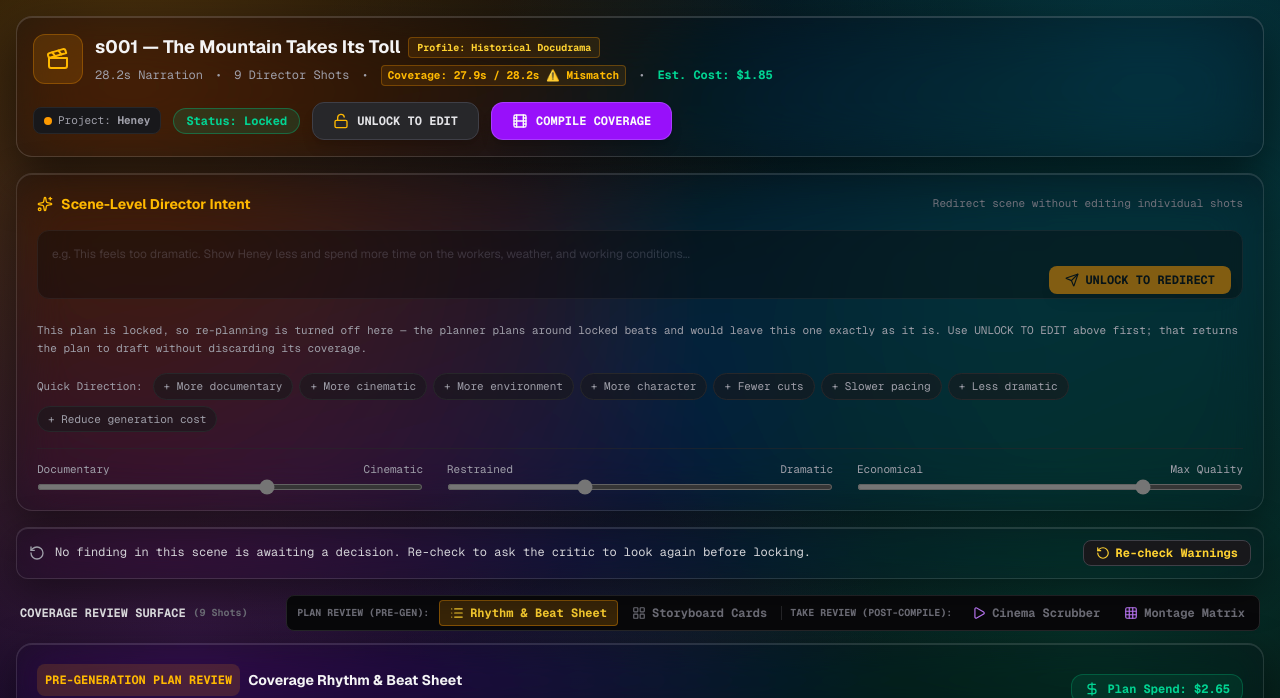
Scenario: the control the studio did not have › cancelling closes the gate without issuing anything
The image size is (1280, 698).
Click the button with test id "compile-open-gate". click: x=582, y=121
box: [491,102,672,140]
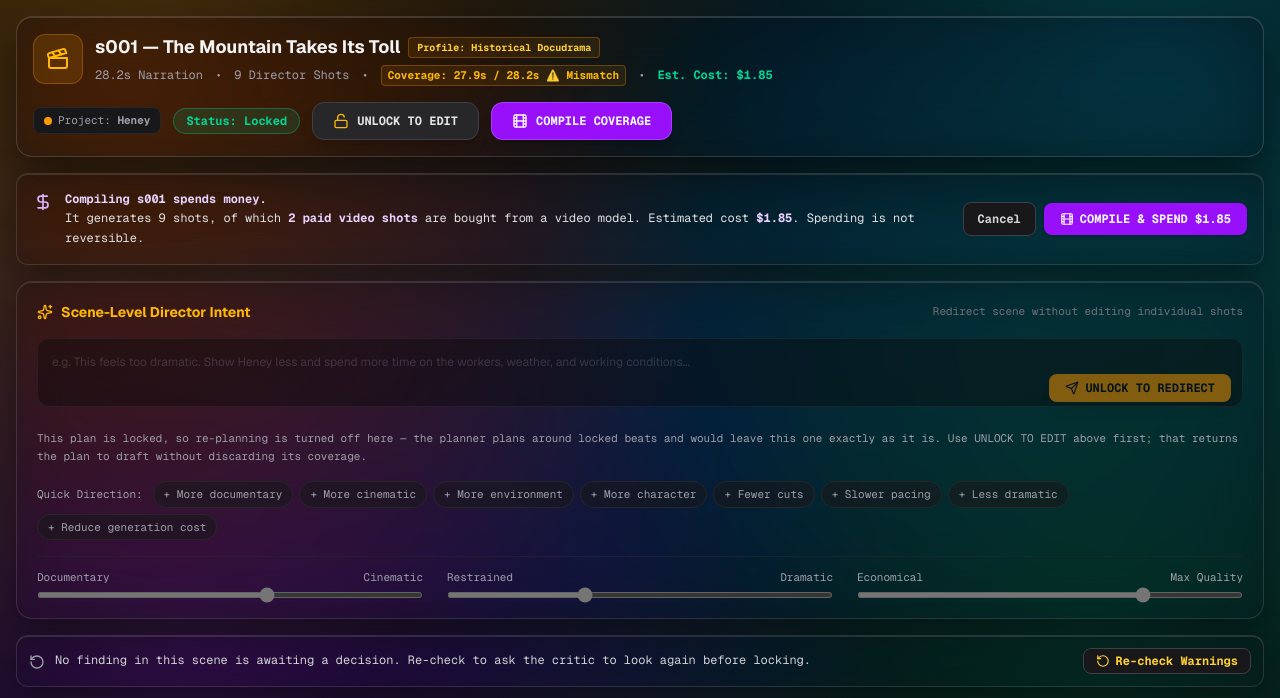
Click the button with test id "compile-cancel". click: x=999, y=219
box: [963,202,1036,236]
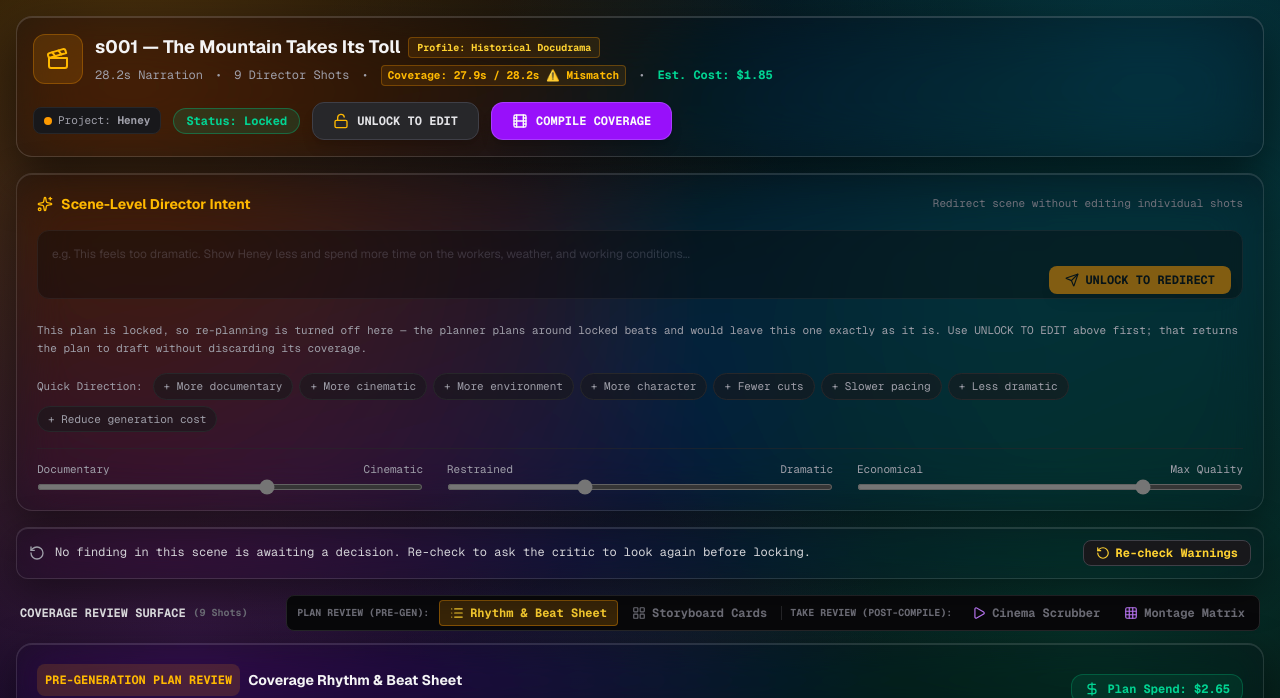
Expected: the element with test id "compile-cost-gate" is gone
